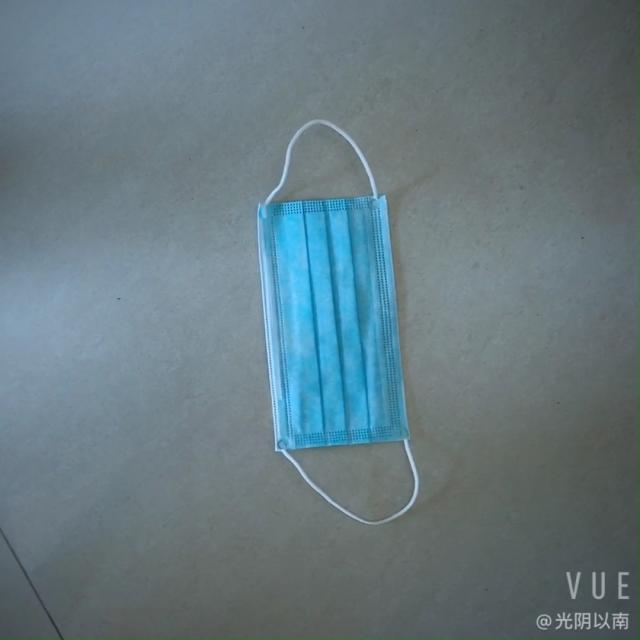face mask: (248, 166, 417, 471)
